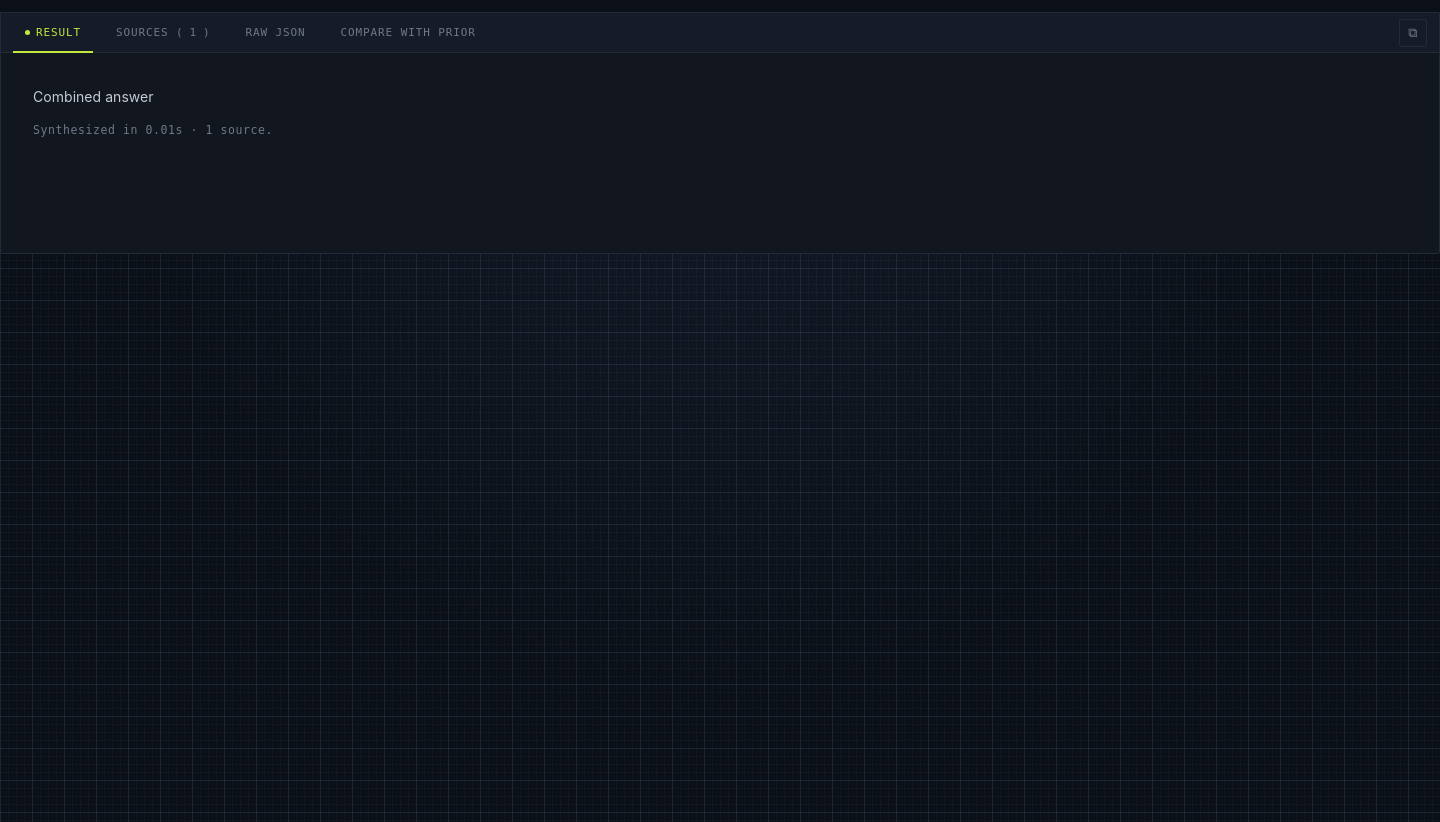
OutputPanel tabs › copies the current output as markdown
Click the button named "Copy as Markdown": x=1413, y=32 left=1399, top=18, right=1427, bottom=46
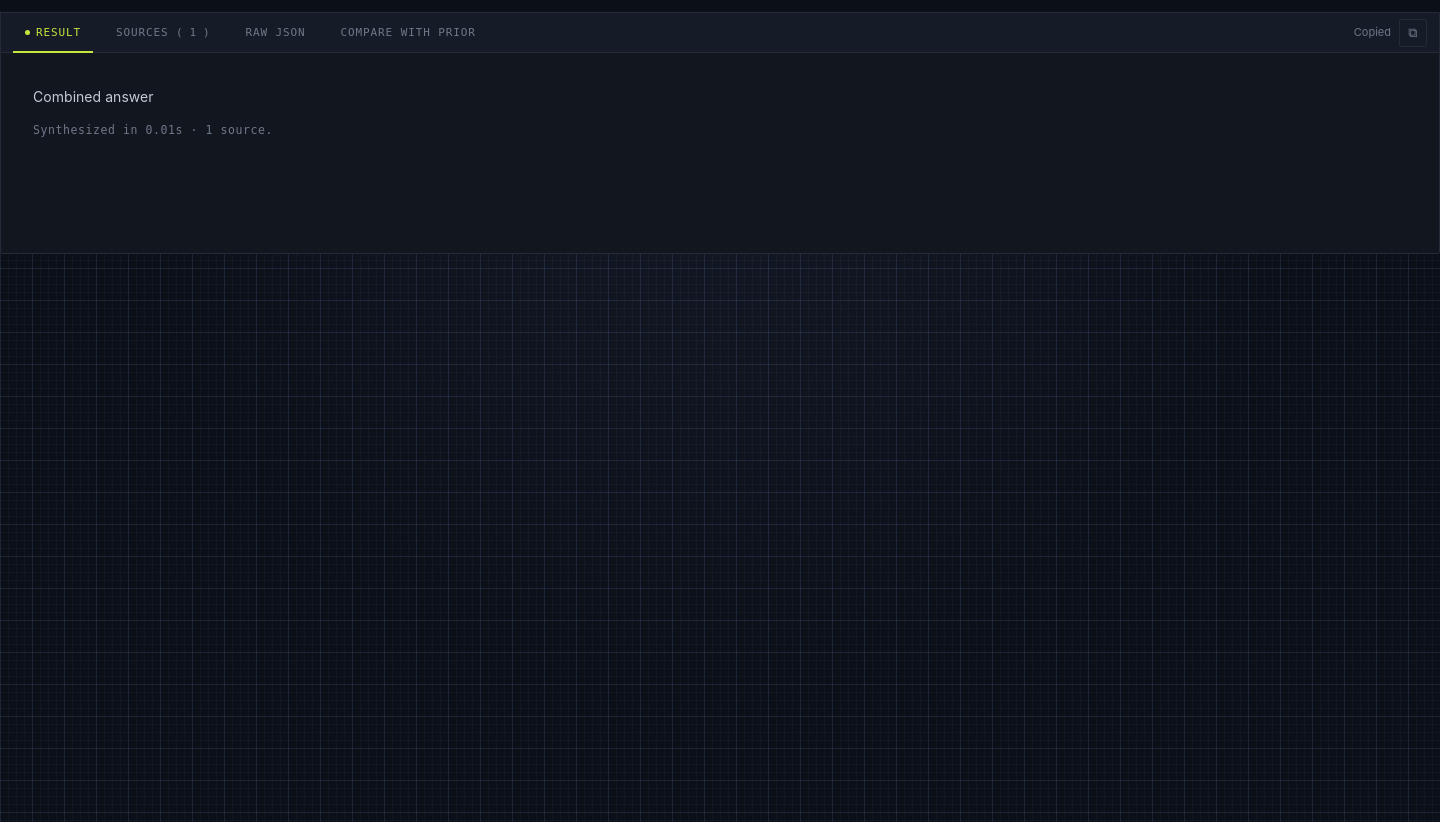
Check: the text "Copied" is shown, box left=1354, top=24, right=1391, bottom=41
